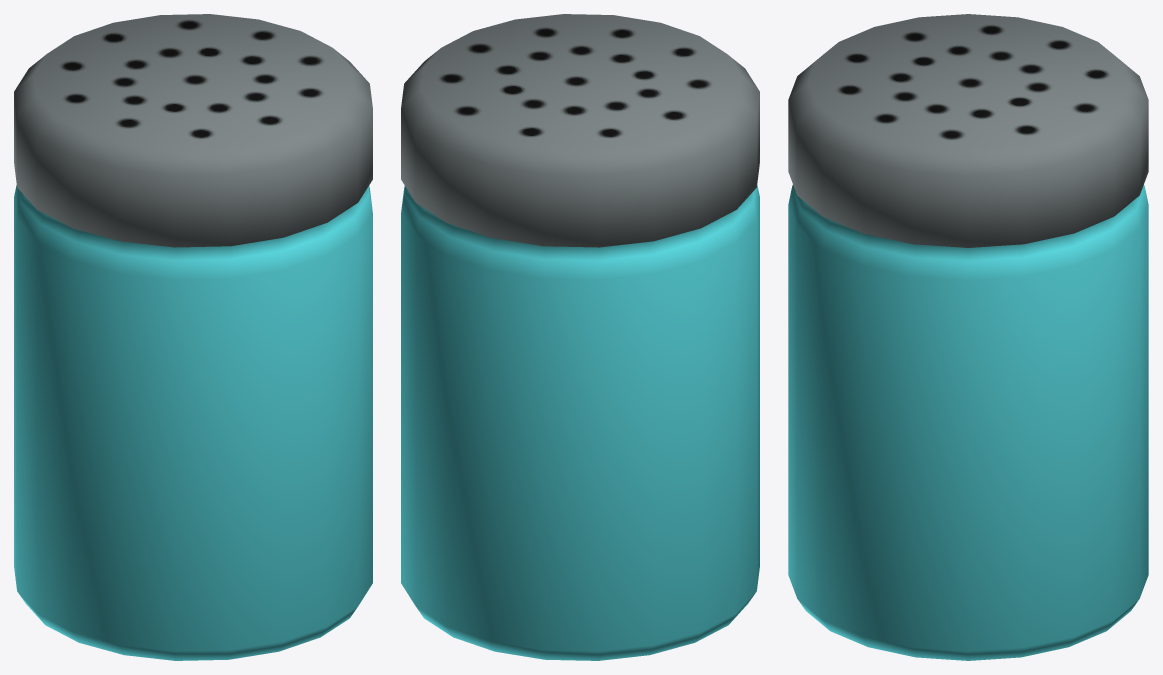
The model's file is kruidengeel.fbx.
3 views of the same model, side by side, from view 1: azimuth 30°, elevation 25°; view 2: azimuth 150°, elevation 25°; view 3: azimuth 270°, elevation 25° (orthographic).
Visible parts, largest first — view 1: polySurface26; view 2: polySurface26; view 3: polySurface26.
Part boxes in pixels (x1,y1,x2,y2): polySurface26: (14,14,372,660); polySurface26: (401,14,759,660); polySurface26: (788,14,1148,660).
Size of the model in its own units: 0.617 by 0.9583 by 0.617.
